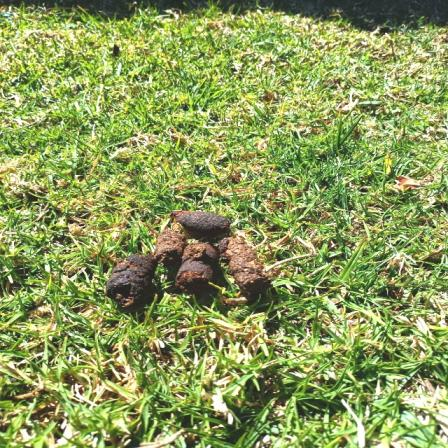dog-poop: (104, 204, 268, 304)
